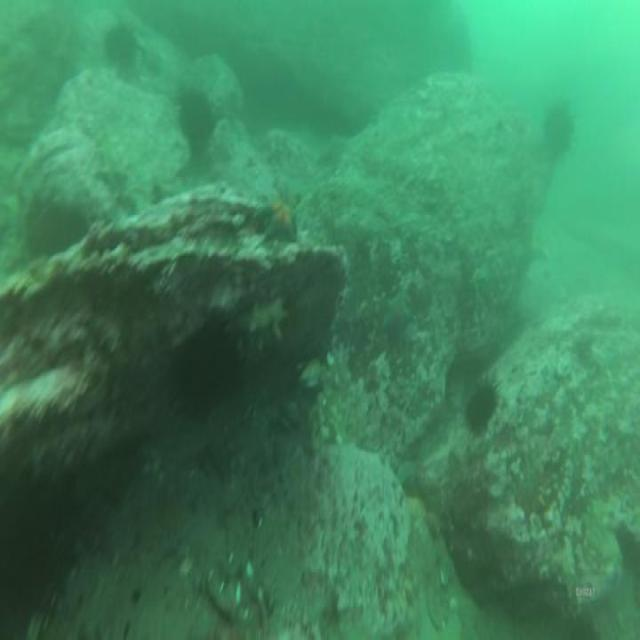echinus: (180, 340, 238, 412), (467, 382, 497, 433), (548, 101, 574, 155), (182, 98, 212, 142), (106, 27, 136, 65)
holothurian: (241, 300, 288, 348)
starfish: (265, 194, 296, 242), (382, 294, 412, 332)
